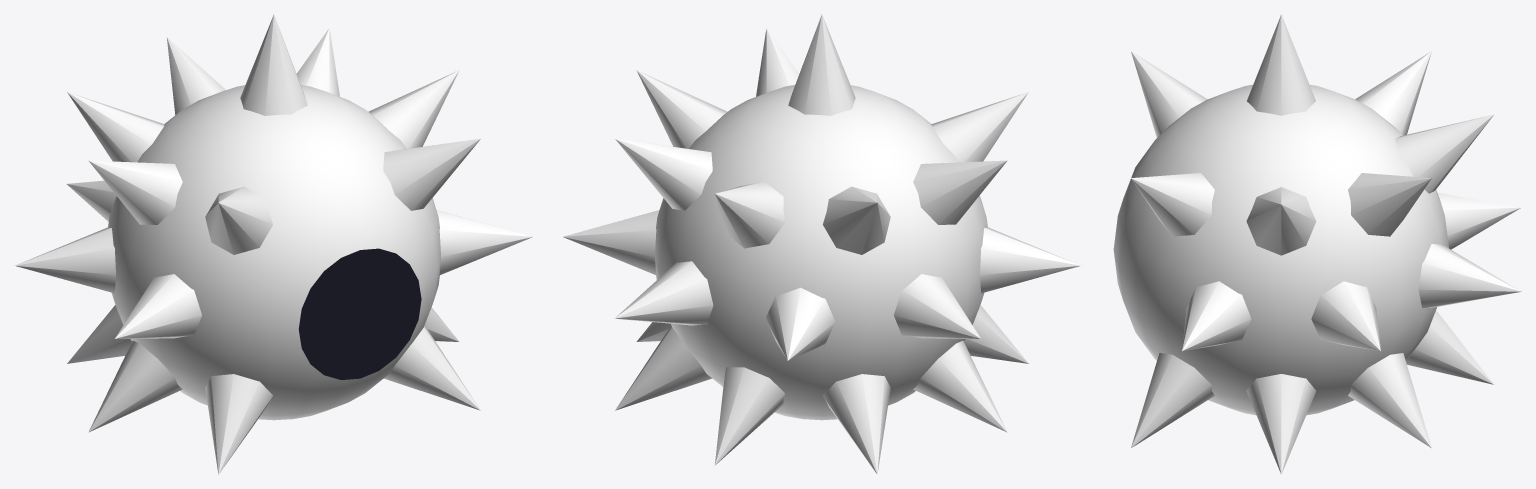
File: boss.obj
3 views of the same model, side by side, from view 1: azimuth 30°, elevation 25°; view 2: azimuth 150°, elevation 25°; view 3: azimuth 270°, elevation 25° (orthographic).
Parts seen in each view (by area): view 1: boss; view 2: boss; view 3: boss.
Part boxes in pixels (x1,y1,x2,y2): boss: (15,14,532,474); boss: (563,14,1080,474); boss: (1113,14,1521,474).
Size of the model in its own units: 2.86 by 2.55 by 2.45.
1 material, 1 textured.
